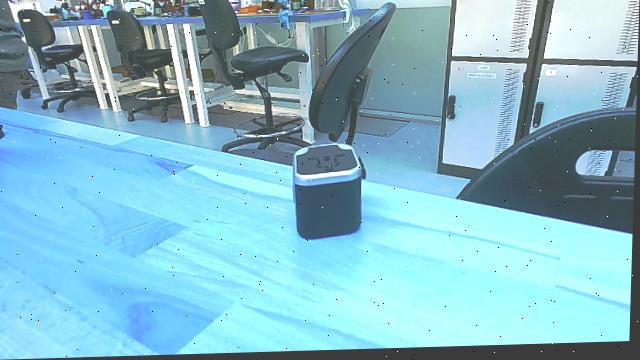adapter: (286, 140, 371, 246)
